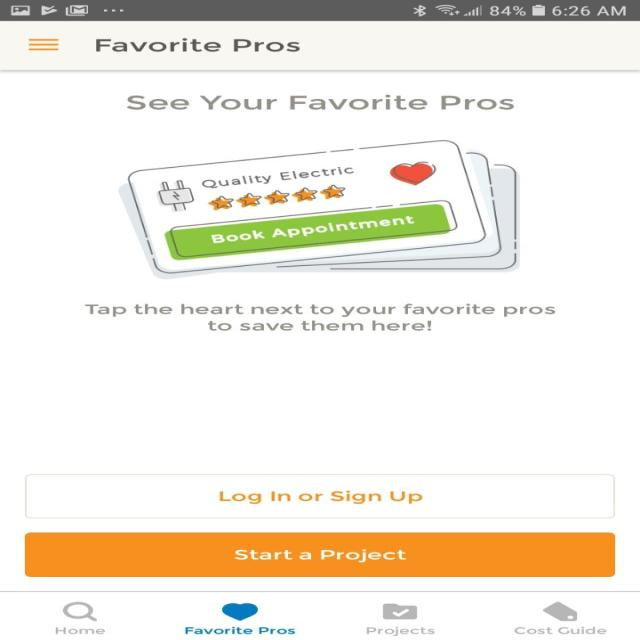Icon: (62, 601, 98, 621), (541, 601, 577, 621), (221, 602, 258, 621), (382, 603, 417, 620), (29, 38, 60, 51)
Image: (117, 140, 519, 280)
Text: (83, 303, 554, 331), (125, 94, 514, 110), (95, 38, 300, 53), (184, 626, 295, 634), (514, 626, 606, 634), (365, 626, 435, 636), (54, 626, 105, 634)
TextButton: (25, 532, 615, 577), (24, 474, 614, 518)
